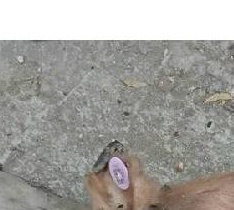text: (94, 151, 145, 197)
